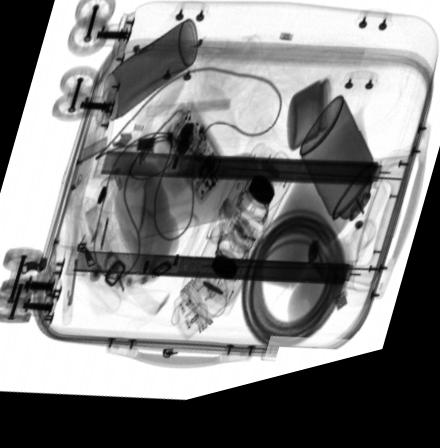Sprayer: (299, 112, 387, 264)
